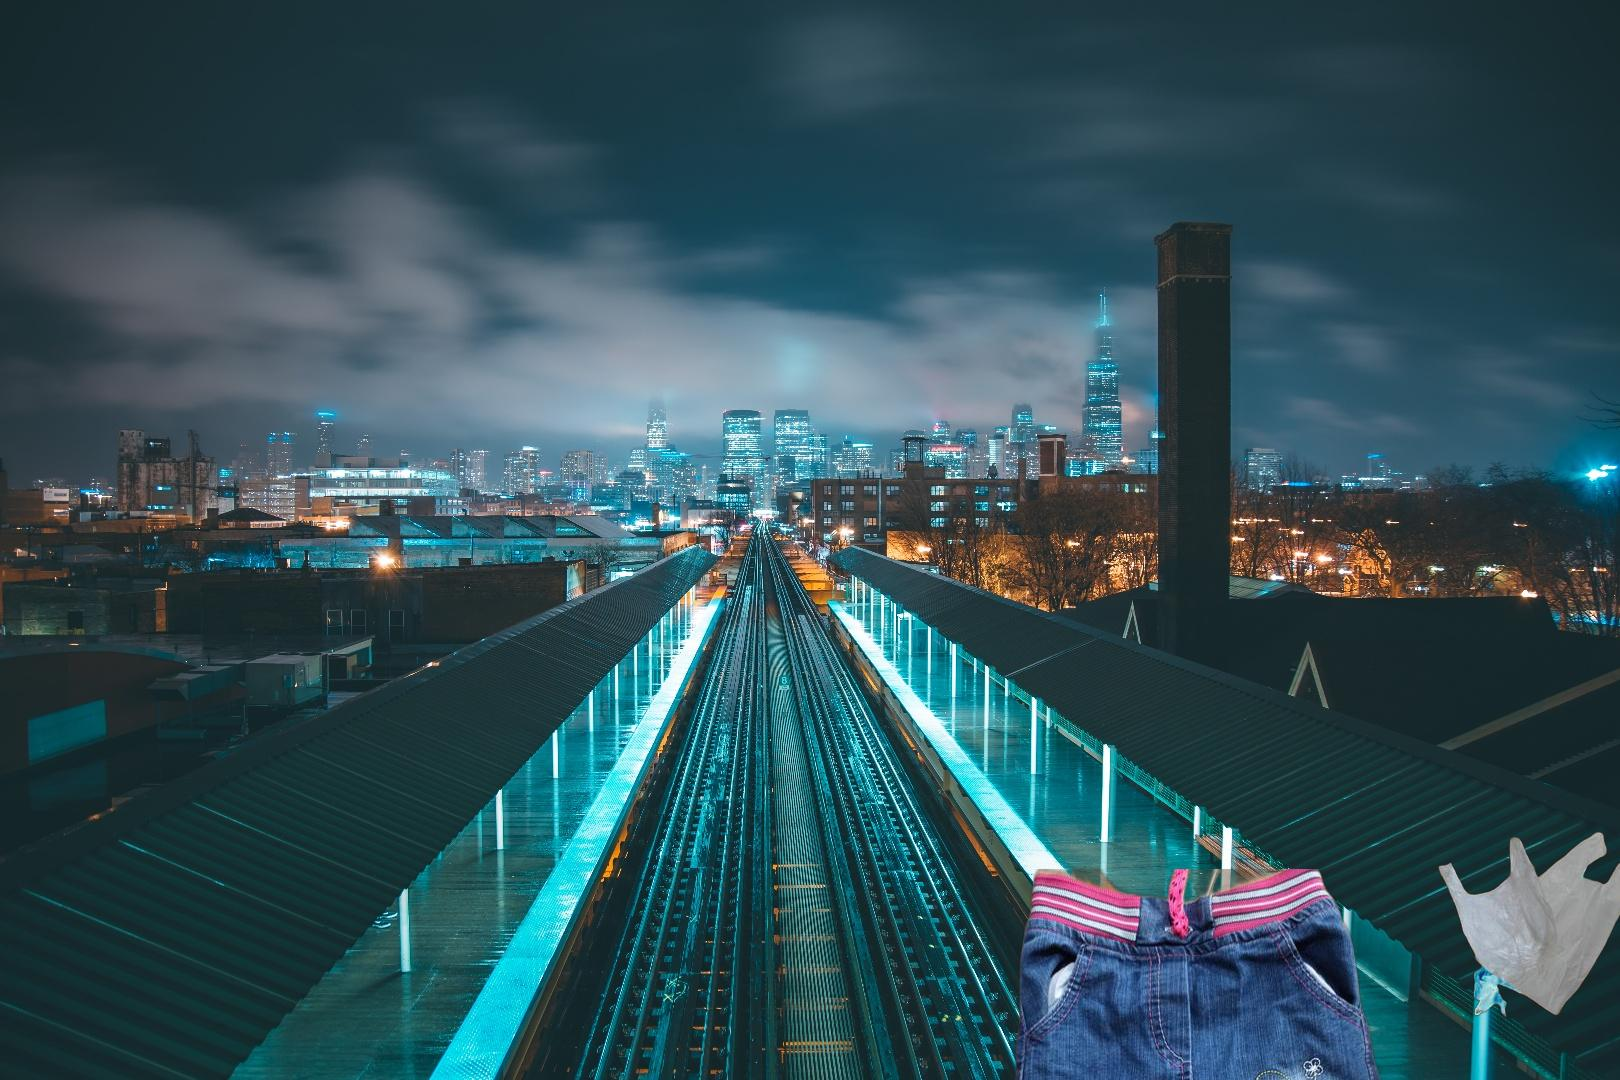clothes: (1008, 869, 1408, 1080)
plastic-bag: (1436, 829, 1620, 1020)
